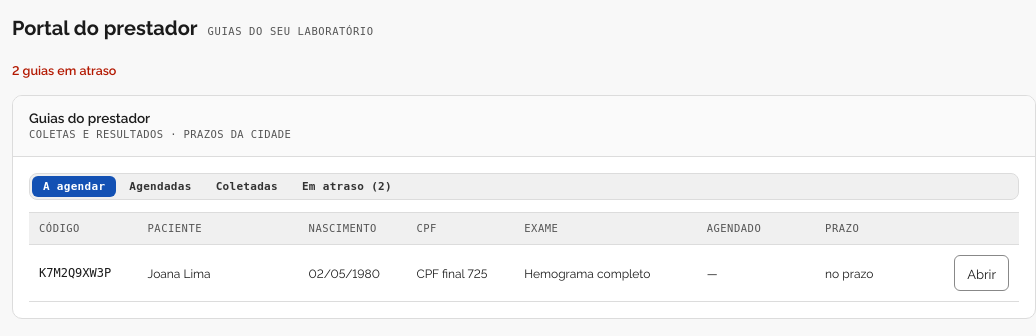
Test: ProviderPortal › ao trocar de aba, o número em atraso continua enquanto a nova aba carrega
Check: the tab "Em atraso (2)" is shown, box [291, 176, 403, 196]
Click the tab "Agendadas".
click(160, 186)  # box [118, 176, 203, 196]
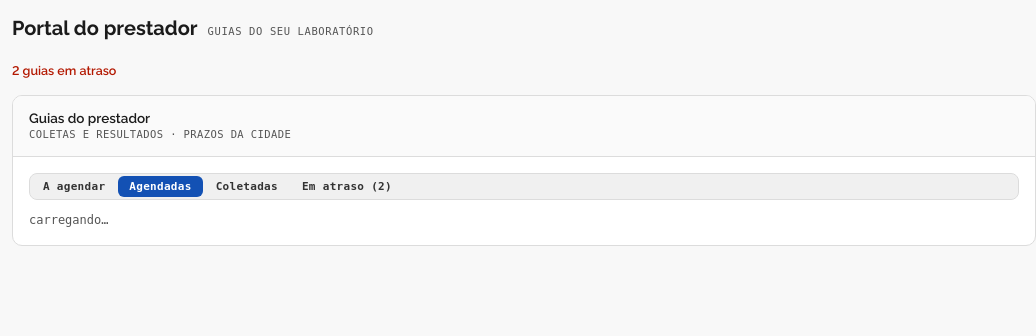
Check: the tab "Em atraso (2)" is shown, box [291, 176, 403, 196]
Check: the text "carregando…" is shown, box [29, 212, 108, 226]
